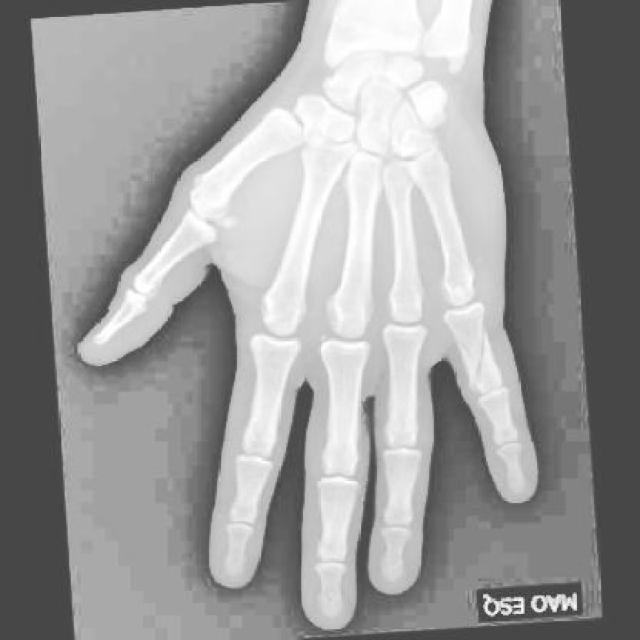Fracture: (460, 331, 502, 399)
